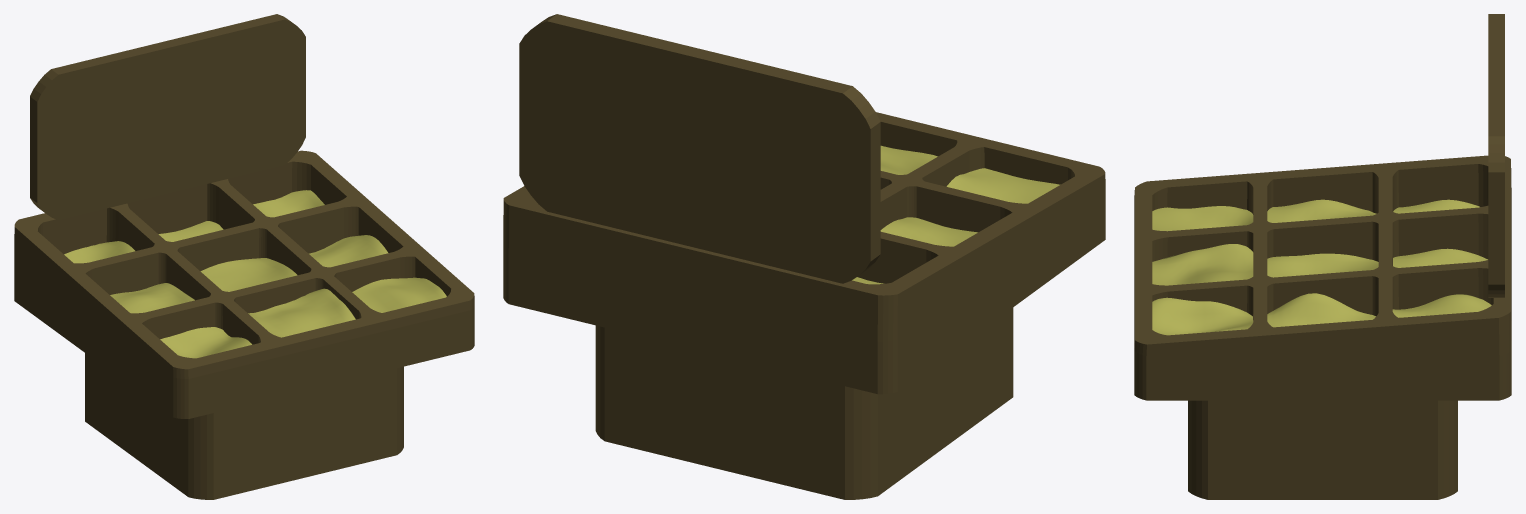
Rendered from tavuk_tezgahi_1.fbx.
The picture shows the model from 3 angles, left to right: view 1: azimuth 30°, elevation 25°; view 2: azimuth 150°, elevation 25°; view 3: azimuth 270°, elevation 25°; orthographic projection. The views are drawn at different scales.
Visible parts, largest first — view 1: Cube.004, Cube.002, Cube.006, Cube.001; view 2: Cube.004, Cube.002, Cube.006, Cube.001; view 3: Cube.004, Cube.006, Cube.001, Cube.002.
Boxes of the visible parts, x1,y1,x2,y2 form: Cube.004: (14, 150, 474, 418); Cube.002: (30, 14, 305, 220); Cube.006: (85, 353, 403, 499); Cube.001: (64, 190, 446, 358); Cube.004: (503, 112, 1105, 394); Cube.002: (519, 14, 880, 283); Cube.006: (595, 307, 1013, 499); Cube.001: (852, 145, 1060, 284); Cube.004: (1134, 155, 1511, 400); Cube.006: (1188, 400, 1457, 499); Cube.001: (1152, 199, 1491, 335); Cube.002: (1488, 14, 1504, 297).
Bounding box in the file's own units: 192 × 202 × 188.
